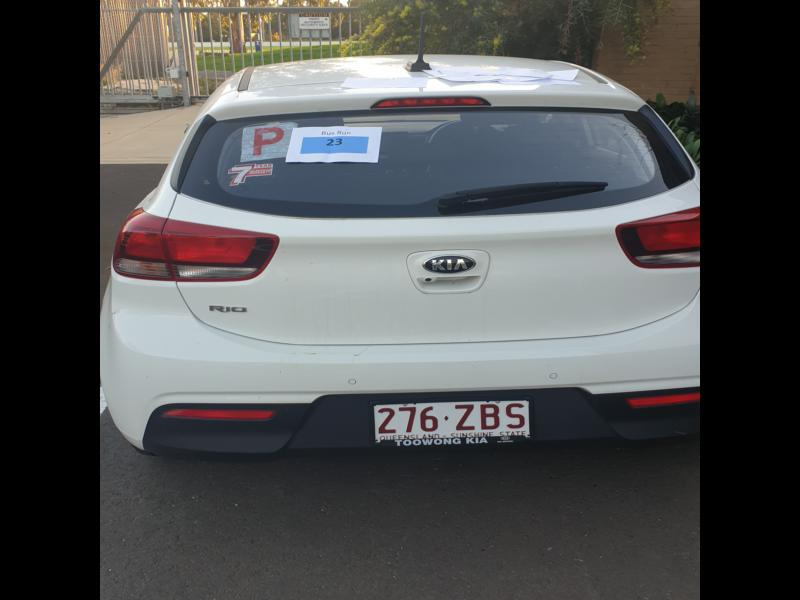BusRun: (302, 134, 370, 152)
PlateNo: (369, 401, 533, 439)
